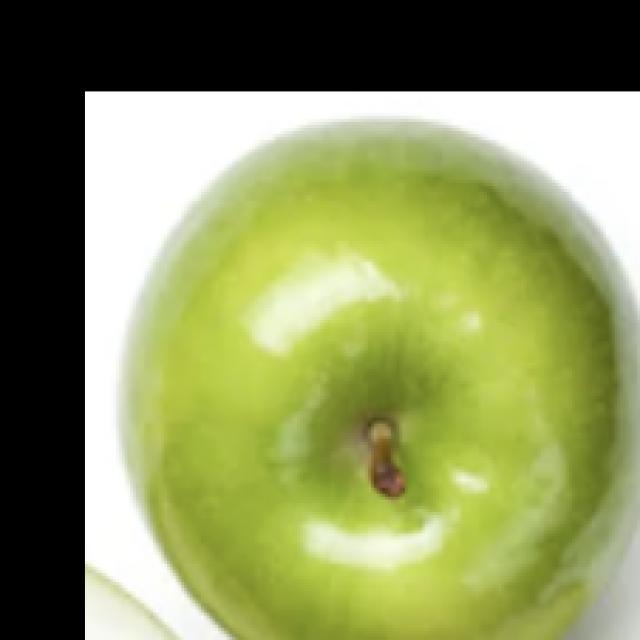Fresh Apple: (115, 122, 627, 640)
